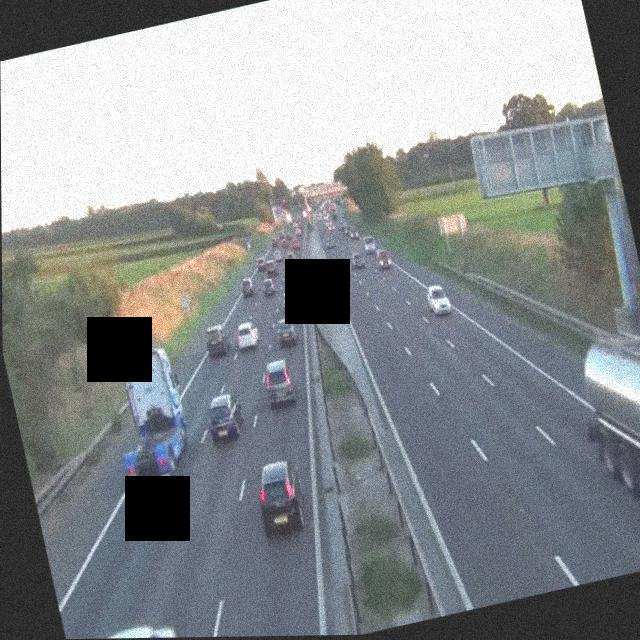car: (250, 456, 309, 537), (67, 617, 183, 639), (202, 388, 247, 444), (260, 356, 298, 407), (424, 280, 452, 317), (202, 323, 230, 359), (232, 319, 261, 351), (274, 316, 298, 346), (280, 290, 300, 315), (374, 246, 393, 270), (349, 248, 366, 269), (361, 235, 377, 256), (239, 276, 254, 295), (261, 277, 276, 295), (267, 258, 281, 276), (253, 255, 267, 271), (286, 251, 299, 267), (324, 236, 334, 249), (347, 227, 357, 240)
truck: (567, 327, 640, 558), (100, 343, 199, 488)
